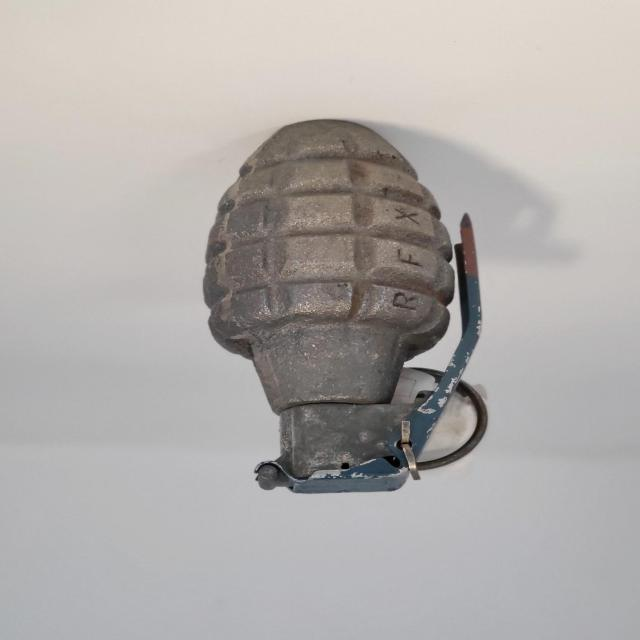grenade: (205, 118, 485, 494)
